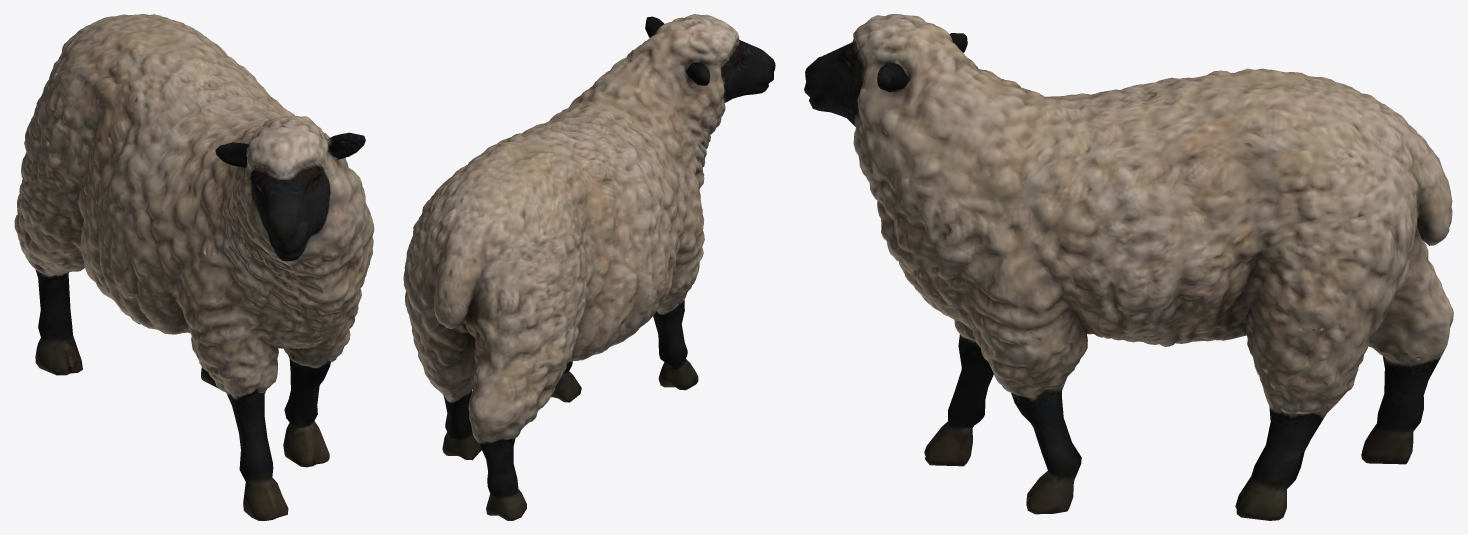
File: MZ4250 - Sheep.glb
3 views of the same model, side by side, from view 1: azimuth 30°, elevation 25°; view 2: azimuth 150°, elevation 25°; view 3: azimuth 270°, elevation 25° (orthographic). The views are drawn at different scales.
Parts seen in each view (by area): view 1: Sheep posed.001; view 2: Sheep posed.001; view 3: Sheep posed.001.
Boxes of the visible parts, x1,y1,x2,y2 form: Sheep posed.001: [14, 14, 374, 520]; Sheep posed.001: [403, 14, 775, 520]; Sheep posed.001: [804, 14, 1453, 520].
Size of the model in its own units: 5.97 by 11.19 by 14.93.
Materials: 1 (1 with a texture image).
